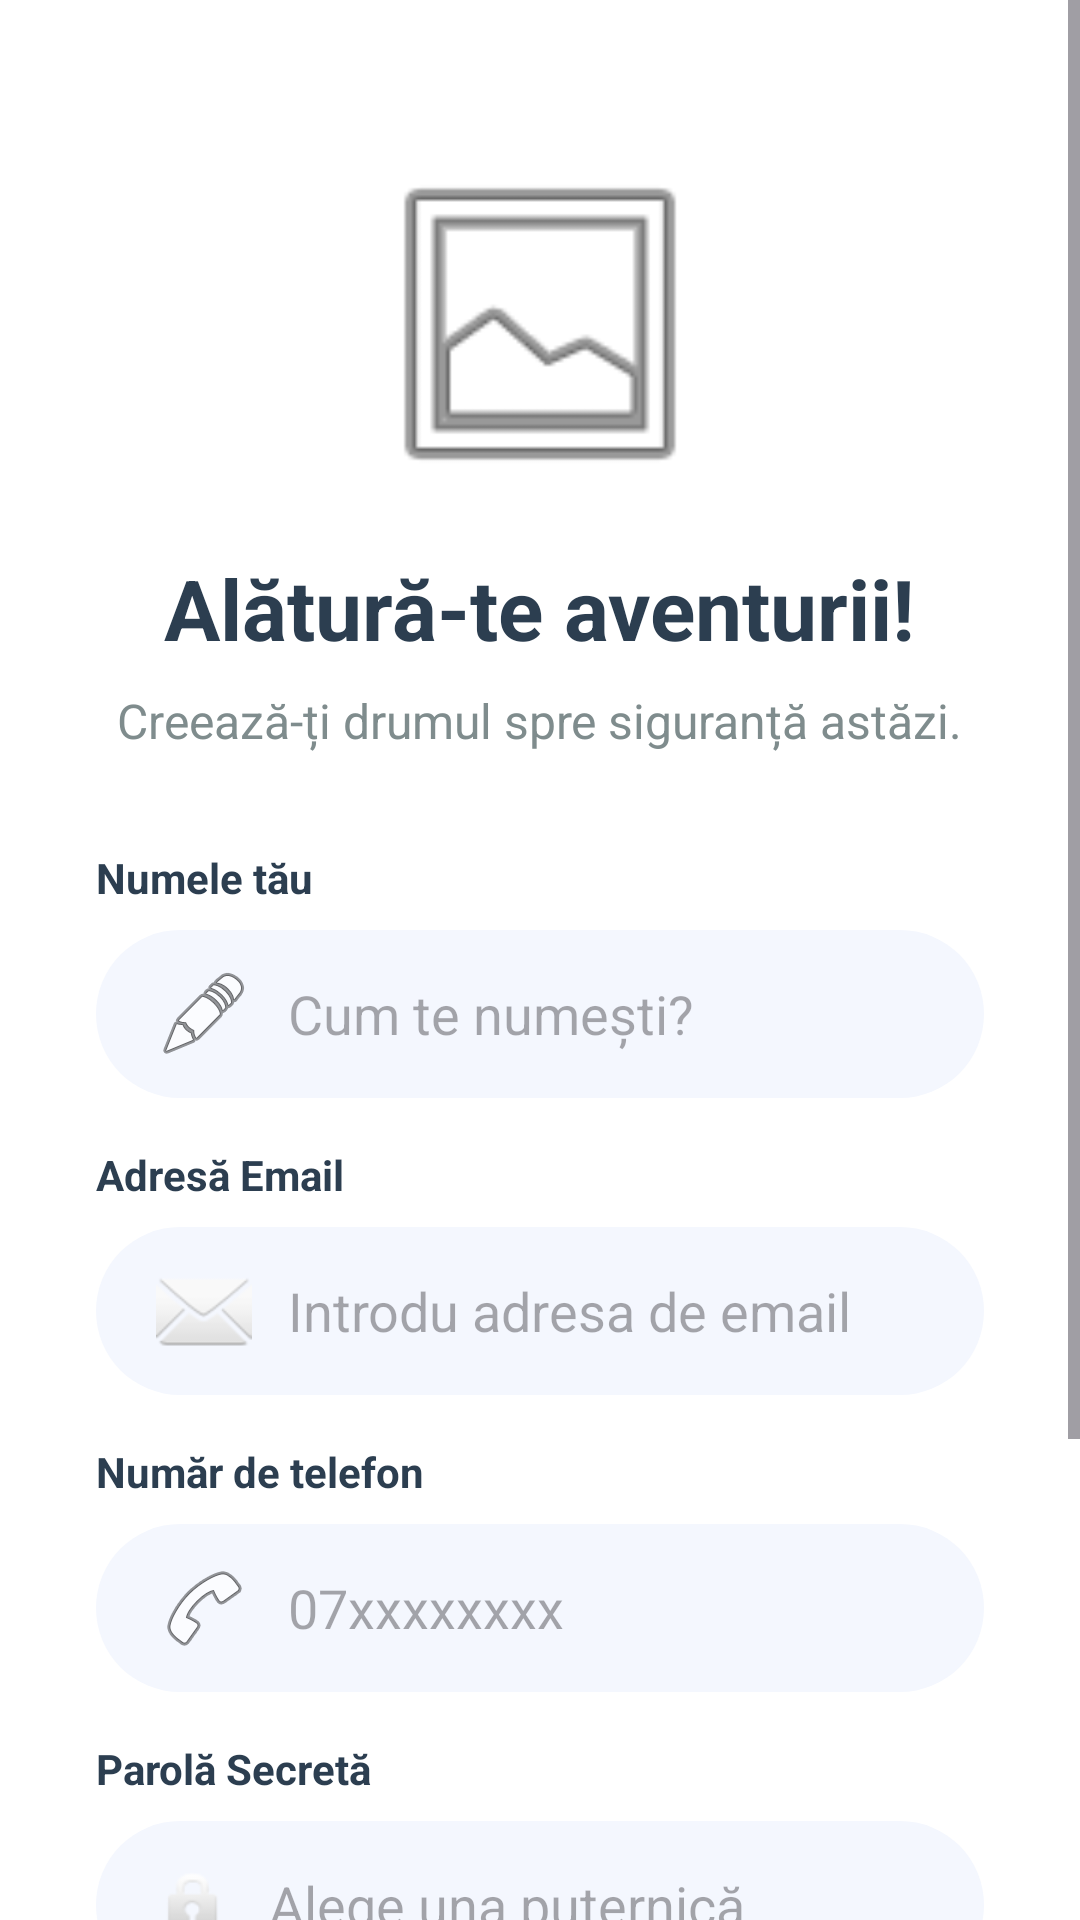

Named icons in this screenshot (1080 x 1920) and their bounding boxes, (x1, y1, x2, y2):
gallery: (404, 188, 676, 460)
